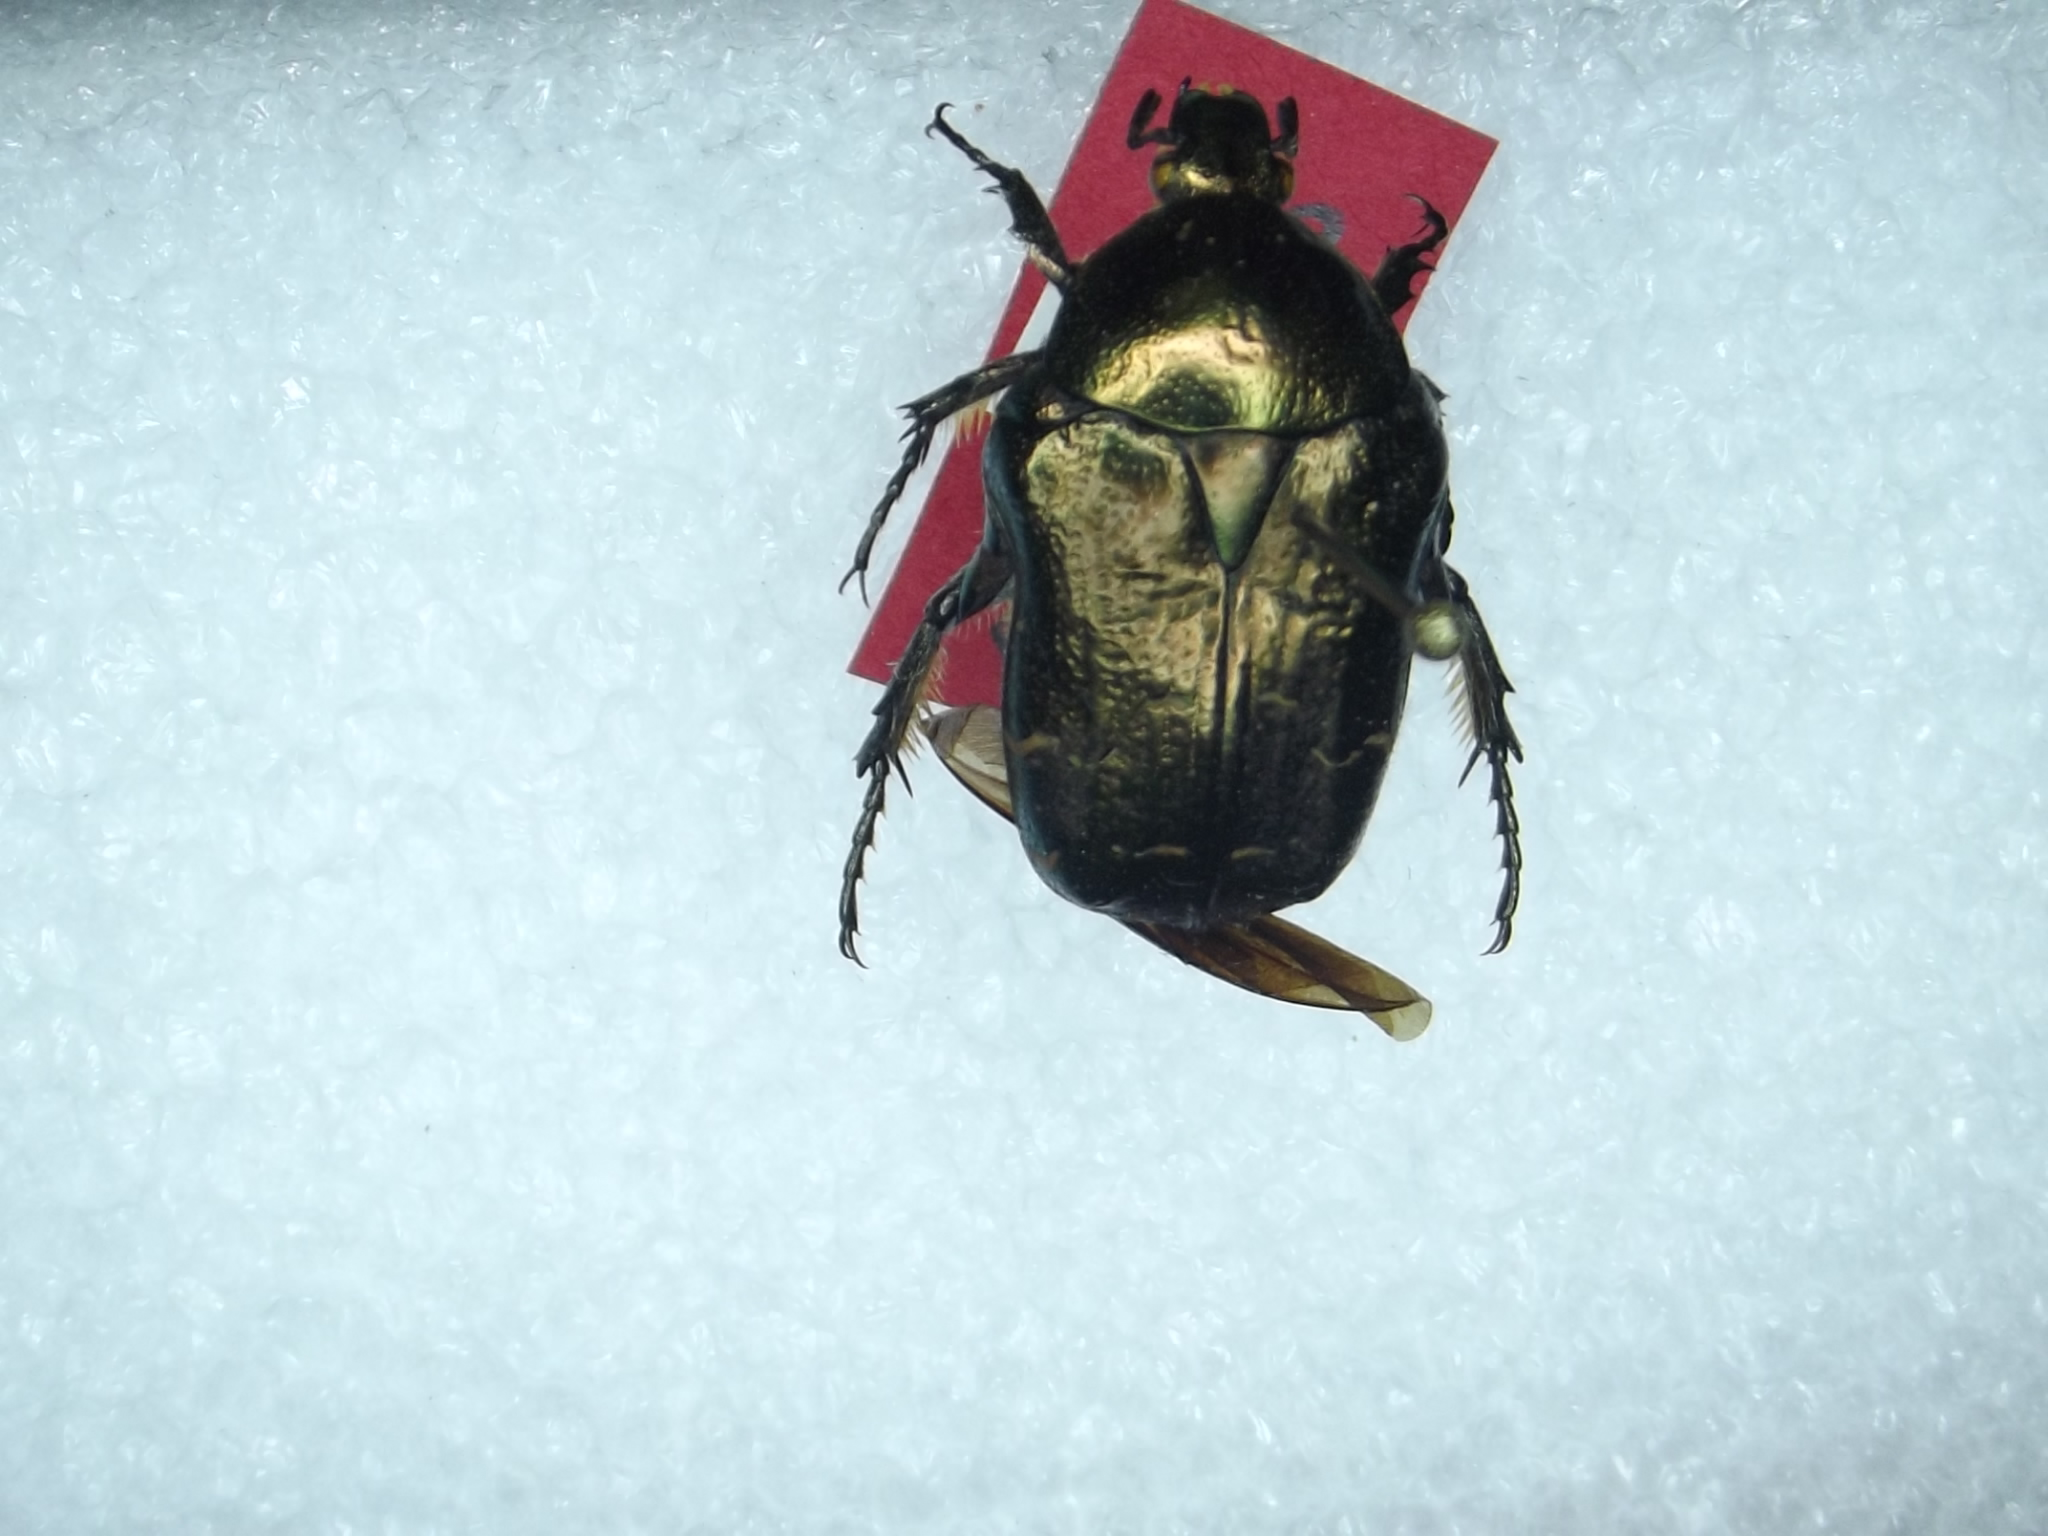Cetonia_kemali: (808, 48, 1543, 1033)
